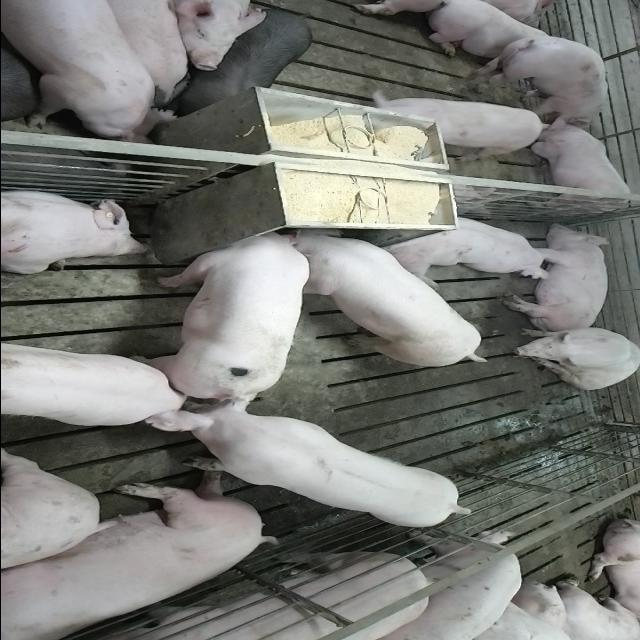Feeding: (280, 229, 496, 372), (143, 221, 309, 395)
Lateral_lying: (0, 471, 276, 637), (499, 224, 612, 334)
Sitting: (520, 120, 640, 218), (502, 325, 638, 390)
Standing: (161, 392, 481, 529), (1, 549, 439, 640), (0, 2, 174, 142), (166, 4, 312, 118), (0, 339, 185, 426), (385, 530, 526, 640), (476, 25, 612, 127), (362, 95, 554, 156), (94, 3, 192, 105)
Sternal_lying: (0, 186, 150, 274), (382, 210, 558, 276), (426, 1, 566, 68)
